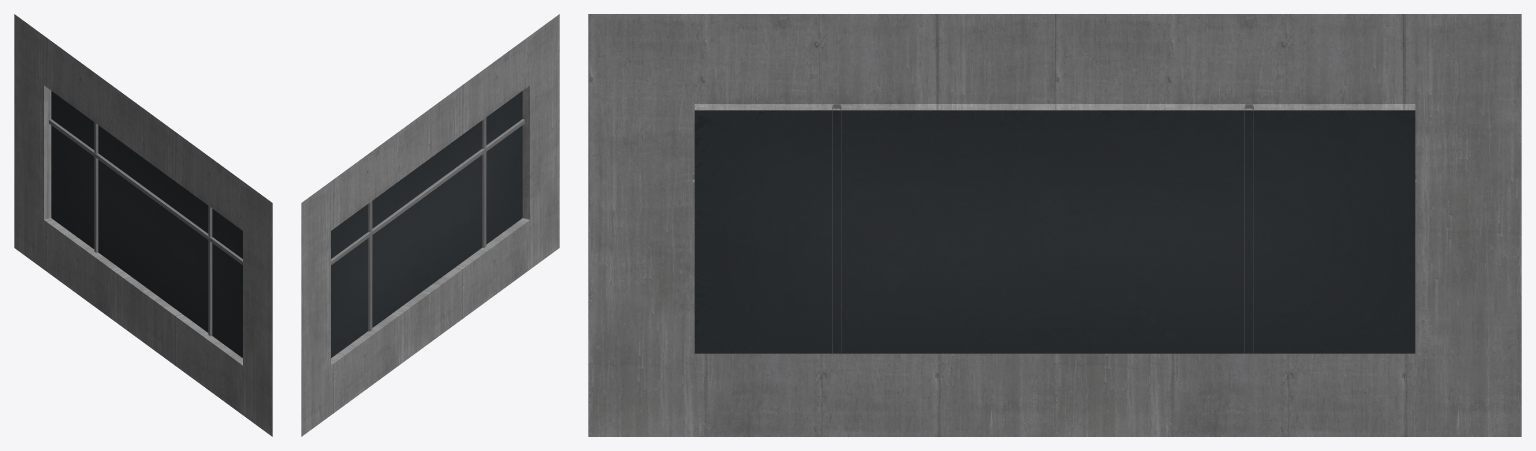
File: HH_Hospital_Showcase_8m_01.fbx
3 views of the same model, side by side, from view 1: azimuth 30°, elevation 25°; view 2: azimuth 150°, elevation 25°; view 3: azimuth 270°, elevation 25° (orthographic). The views are drawn at different scales.
Visible parts, largest first — view 1: HH_Hospital_Showcase_8m_01; view 2: HH_Hospital_Showcase_8m_01; view 3: HH_Hospital_Showcase_8m_01.
Boxes of the visible parts, x1=… form: HH_Hospital_Showcase_8m_01: x1=14, y1=14, x2=272, y2=436; HH_Hospital_Showcase_8m_01: x1=301, y1=14, x2=559, y2=436; HH_Hospital_Showcase_8m_01: x1=588, y1=14, x2=1521, y2=436.
Size of the model in its own units: 14.04 by 400 by 800.
